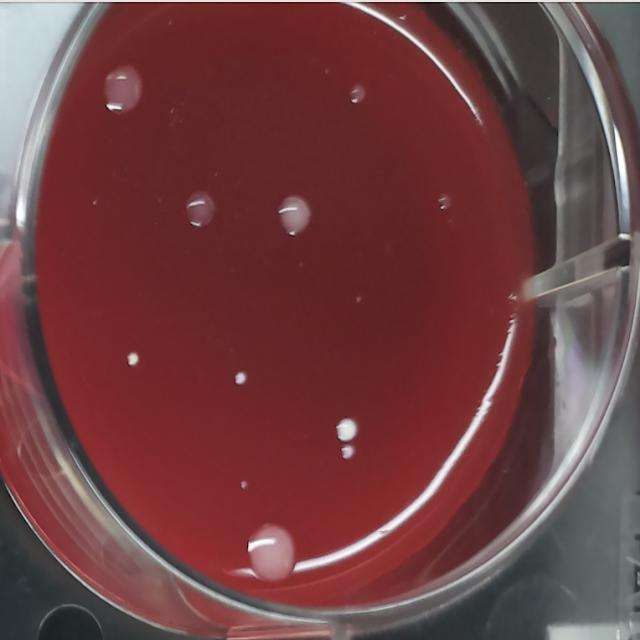Bacillus: (244, 516, 299, 591)
Pseudoalteromonas: (275, 192, 316, 241)
Staphylococcus: (334, 414, 359, 444), (231, 368, 249, 390), (124, 350, 141, 370), (339, 442, 354, 462)
